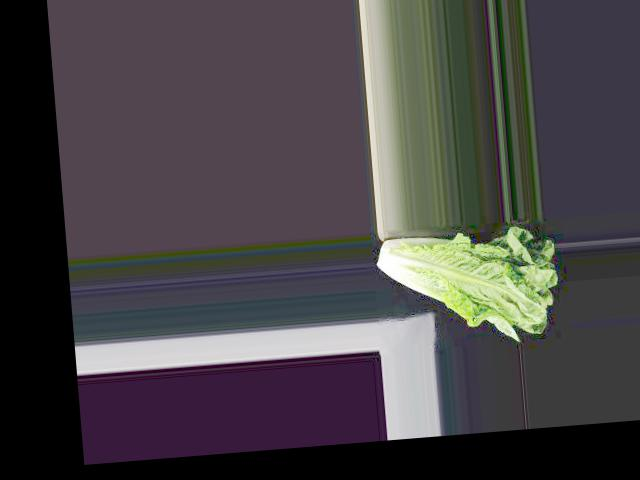lettuce: (378, 230, 555, 344)
